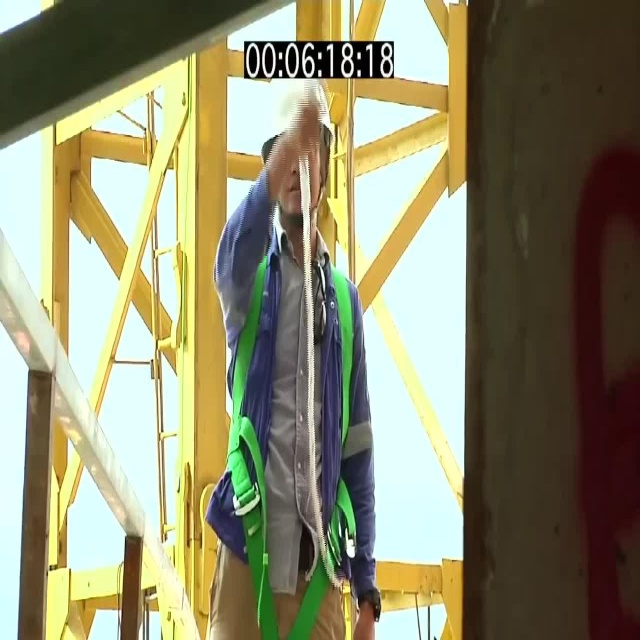Arnes_seguridad: (230, 243, 352, 628)
